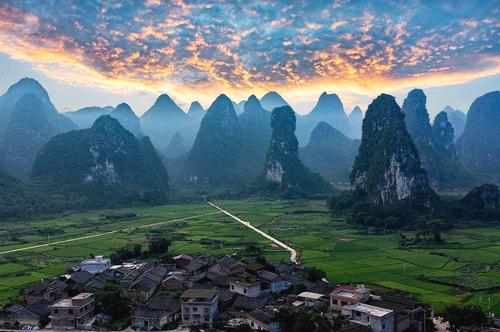mountain: (4, 100, 187, 217), (167, 95, 326, 202), (334, 102, 453, 232)
sky_cloud: (0, 0, 490, 92)
